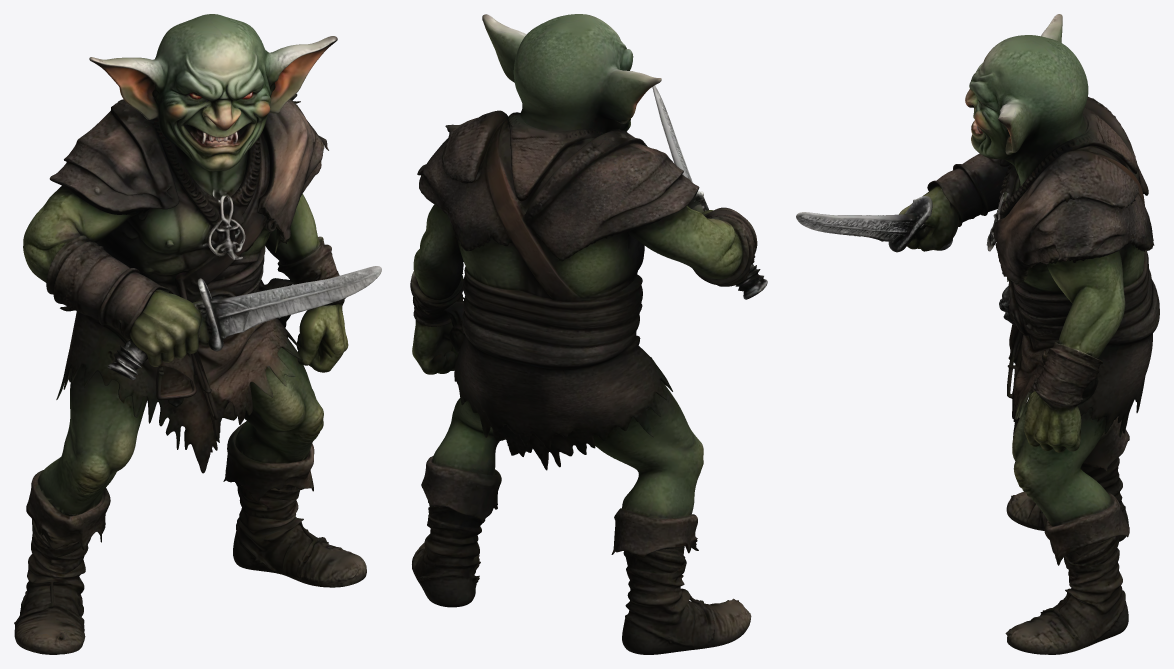
File: goblin.glb
3 views of the same model, side by side, from view 1: azimuth 30°, elevation 25°; view 2: azimuth 150°, elevation 25°; view 3: azimuth 270°, elevation 25° (orthographic). The views are drawn at different scales.
Parts seen in each view (by area): view 1: material; view 2: material; view 3: material.
Part boxes in pixels (bbox=[...]): material: bbox=[14, 14, 381, 654]; material: bbox=[410, 14, 767, 654]; material: bbox=[796, 14, 1159, 654].
Size of the model in its own units: 0.605 by 1.01 by 0.6101.
1 material, 1 textured.
